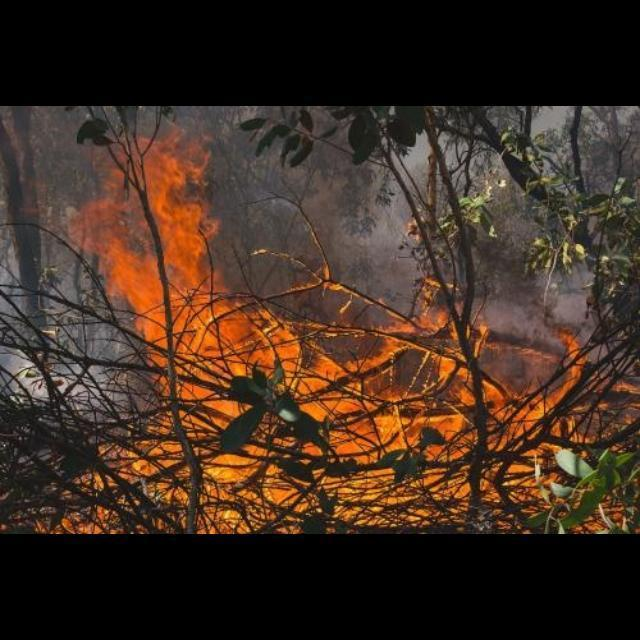Fire: (34, 132, 626, 534)
Smoke: (482, 260, 608, 364), (2, 350, 126, 422)
